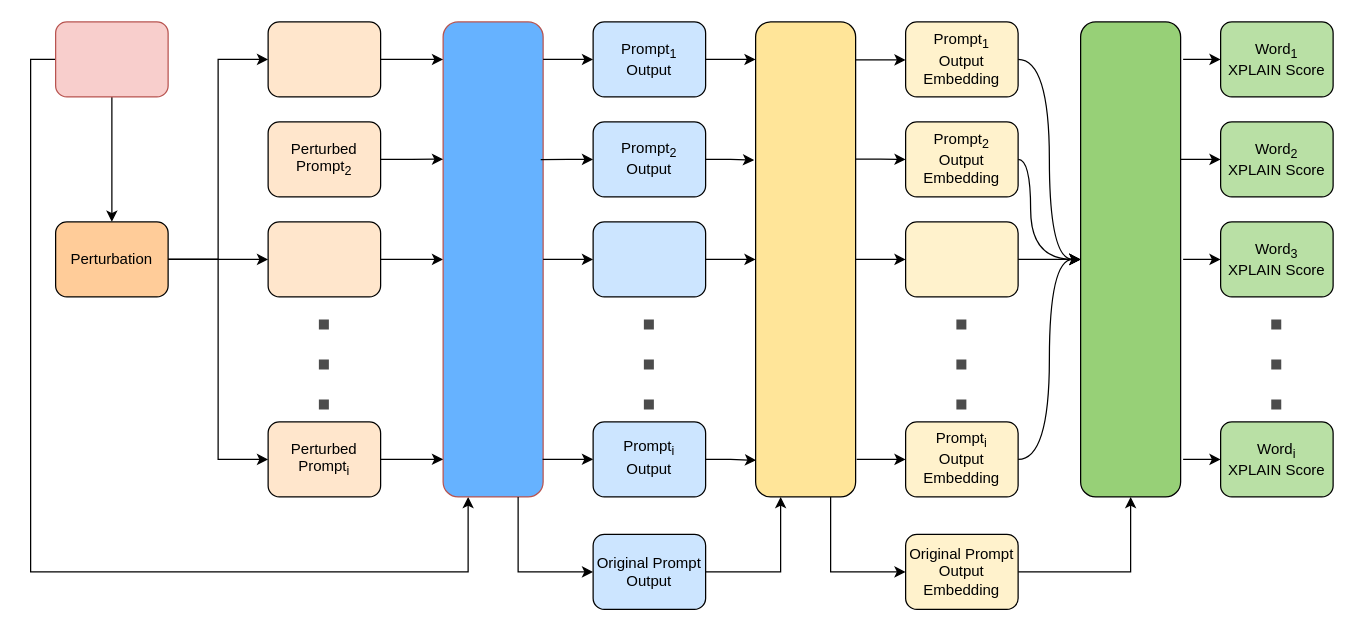
This 1355x631 diagram has some shape labels left out. The centre of each missing label's shape, as x and y in pixels:
"Large Language Model" goes at point 492,259.
"Original Prompt" goes at point 111,59.
"Perturbed Prompt 1" goes at point 324,59.
"Perturbed Prompt 3" goes at point 324,259.
"Prompt 3 Output" goes at point 649,259.
"Prompt 3 Output Embedding" goes at point 961,259.
"Vector Embedding Model" goes at point 805,259.
"XPLAIN Score Calculator" goes at point 1130,259.
